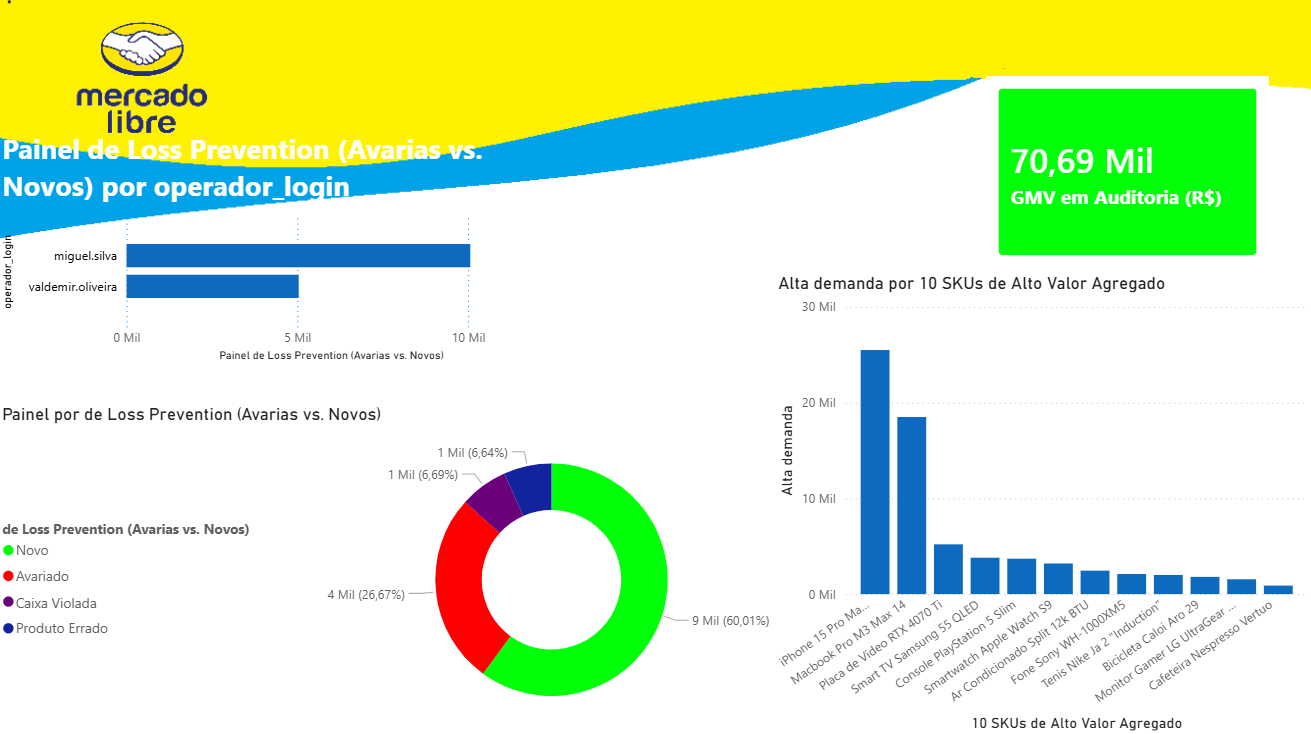

What the dashboard file says about the page in this screenshot:
{"tool":"powerbi","page":{"name":"Página 1","canvas":[1280,720],"ordinal":0},"visuals":[{"type":"cardVisual","fields":{"Data":["Sum(auditoria_dv_cajamar (2).valor_produto)"]},"box":[957.1,72.9,286,196.5],"z":0},{"type":"donutChart","fields":{"Category":["auditoria_dv_cajamar (2).status_devolucao"],"Y":["Sum(auditoria_dv_cajamar (2).id_bip)"]},"box":[0,396.8,831.6,322.9],"z":1000},{"type":"barChart","fields":{"Y":["Sum(auditoria_dv_cajamar (2).id_bip)"],"Category":["auditoria_dv_cajamar (2).operador_login"]},"box":[0,129.4,546.6,230.5],"z":2000},{"type":"columnChart","fields":{"Y":["Sum(auditoria_dv_cajamar (2).valor_produto)"],"Category":["auditoria_dv_cajamar (2).modelo_produto"]},"box":[754.8,269.4,525.2,450.3],"z":3000}]}

Visuals, with their boxes in screenshot pixels (x1, y1, x2, y2), scaled from the page's 1280x720 canvas onto the 1311x734 screenshot:
cardVisual - Sum(auditoria_dv_cajamar (2).valor_produto): [980, 74, 1273, 275]
donutChart - auditoria_dv_cajamar (2).status_devolucao x Sum(auditoria_dv_cajamar (2).id_bip): [0, 405, 852, 733]
barChart - Sum(auditoria_dv_cajamar (2).id_bip) x auditoria_dv_cajamar (2).operador_login: [0, 132, 560, 367]
columnChart - Sum(auditoria_dv_cajamar (2).valor_produto) x auditoria_dv_cajamar (2).modelo_produto: [773, 275, 1310, 733]
